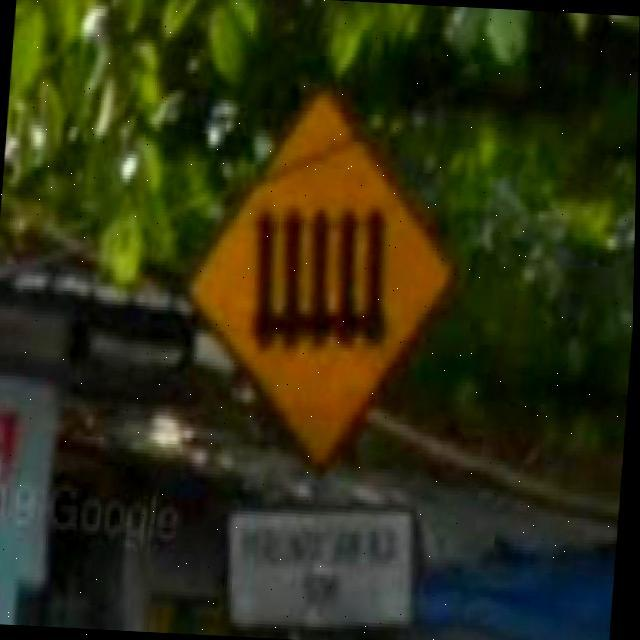Peringatan Perlintasan Kereta Api: (184, 106, 464, 461)
